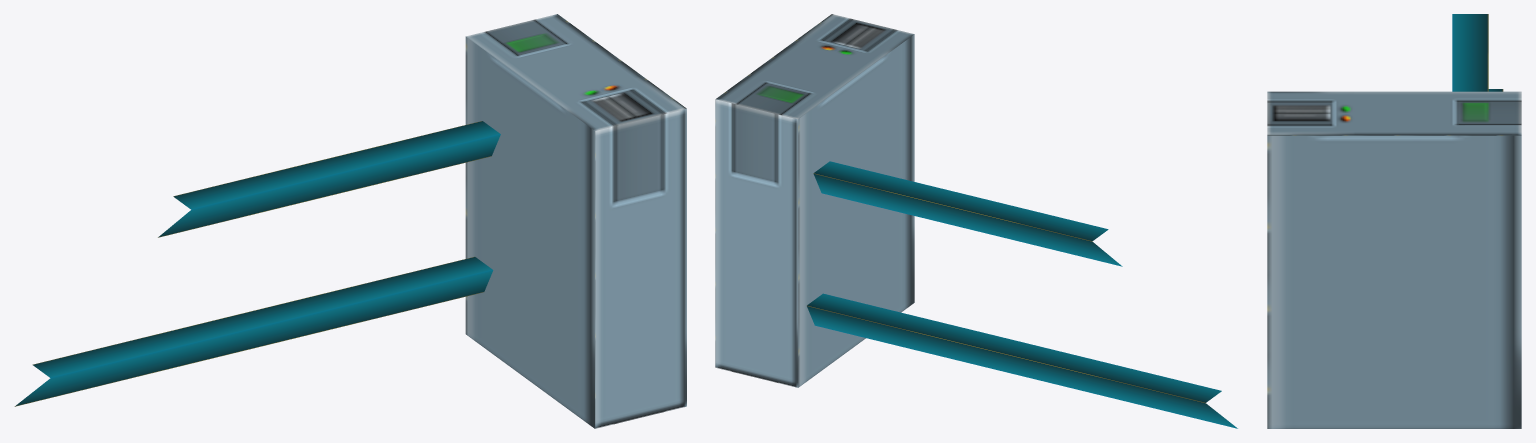
Rendered from ticketgate01.glb.
3 renders of one model, left to right at view 1: azimuth 30°, elevation 25°; view 2: azimuth 150°, elevation 25°; view 3: azimuth 270°, elevation 25°, orthographic. The views are drawn at different scales.
Visible parts, largest first — view 1: ticketgate01; view 2: ticketgate01; view 3: ticketgate01.
Part boxes in pixels (left/top/right/bottom): ticketgate01: left=14, top=14, right=686, bottom=428; ticketgate01: left=715, top=14, right=1237, bottom=428; ticketgate01: left=1267, top=14, right=1521, bottom=428.
Bounding box in the file's own units: 477 × 242 × 190.
Materials: 2 (2 with a texture image).
